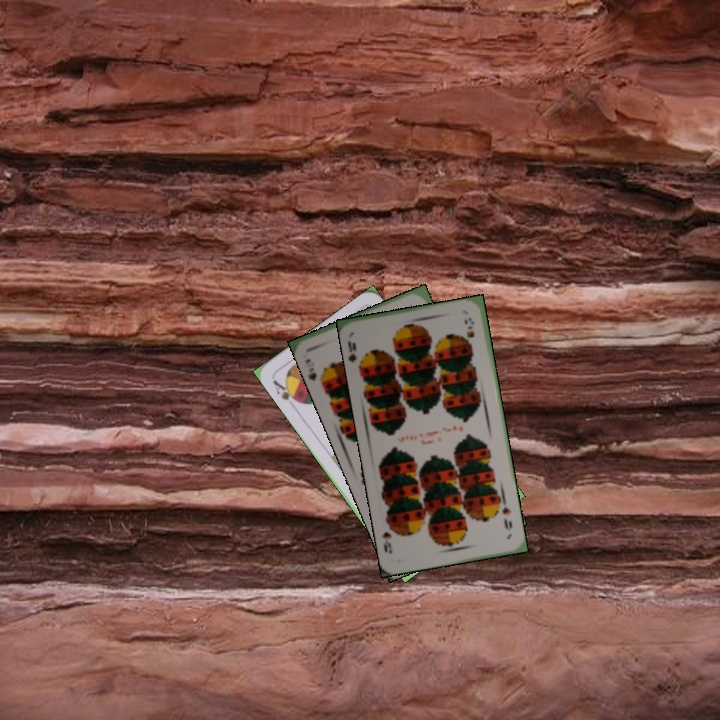S9: (301, 355, 329, 388), (344, 337, 368, 373), (498, 497, 515, 533)
SA: (269, 376, 302, 406)
